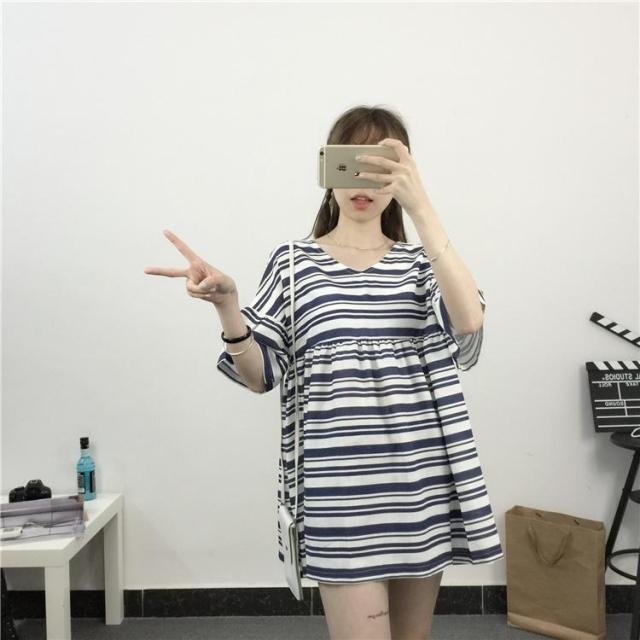short sleeve dress: (219, 240, 499, 575)
